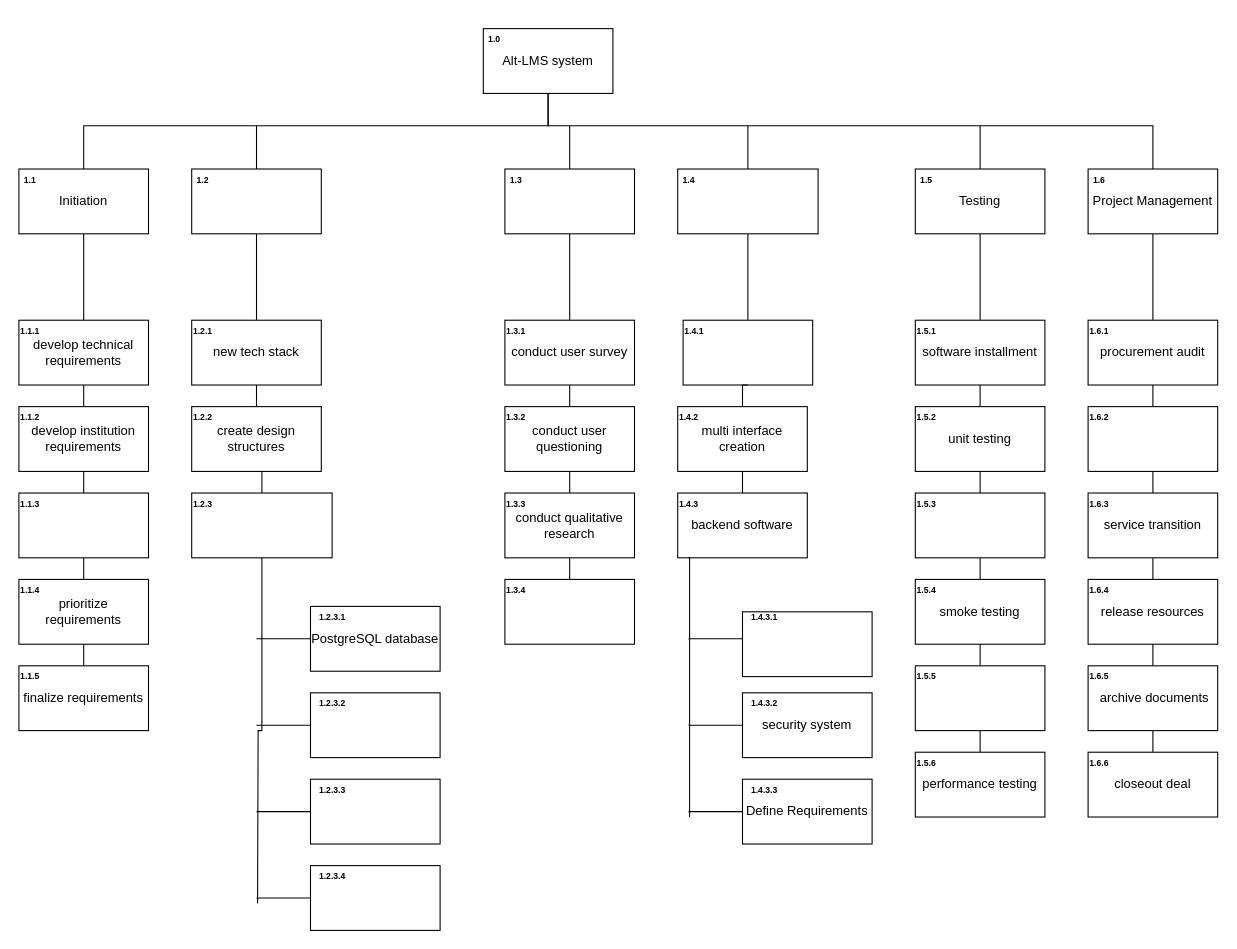
Image size: 1237x949. Some labels were removed from this diagram. The shapes that lost their labels are listed below. From the top down, each one's box as (x1, y1, x2, y2) in pixels, then its label:
(191, 168, 321, 234): Software Design
(504, 168, 634, 234): User Research
(677, 168, 818, 234): Software Development
(682, 319, 813, 385): software unit coding
(1087, 406, 1218, 471): finalize documentation
(18, 492, 148, 558): develop constraints
(191, 492, 332, 558): Model View Controller architectural pattern
(914, 492, 1045, 558): software integration
(504, 578, 634, 644): ethnographic observation
(741, 611, 872, 677): User engagement processes(teacher, student, admins)
(914, 665, 1045, 731): load testing
(309, 692, 440, 758): Amazon Web Services host
(309, 778, 440, 844): ReactJS frontend
(309, 865, 440, 930): Phoenix backend
